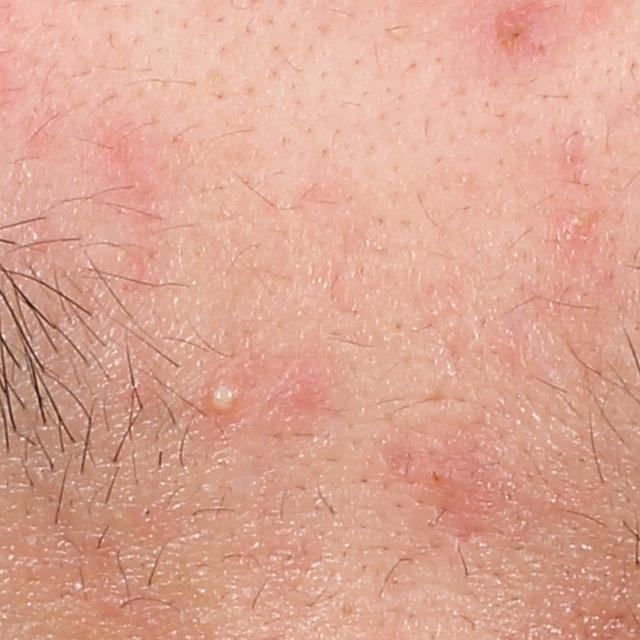pustule: (201, 372, 242, 422)
